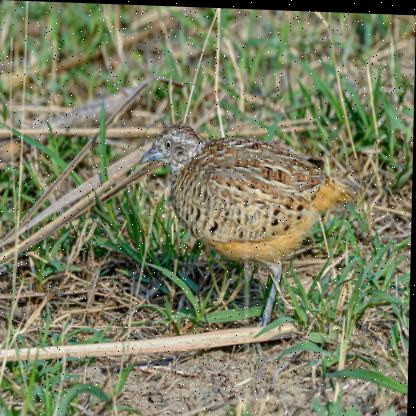Burung: (138, 120, 360, 327)
